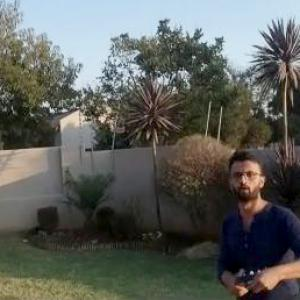follow: (211, 138, 300, 299)
